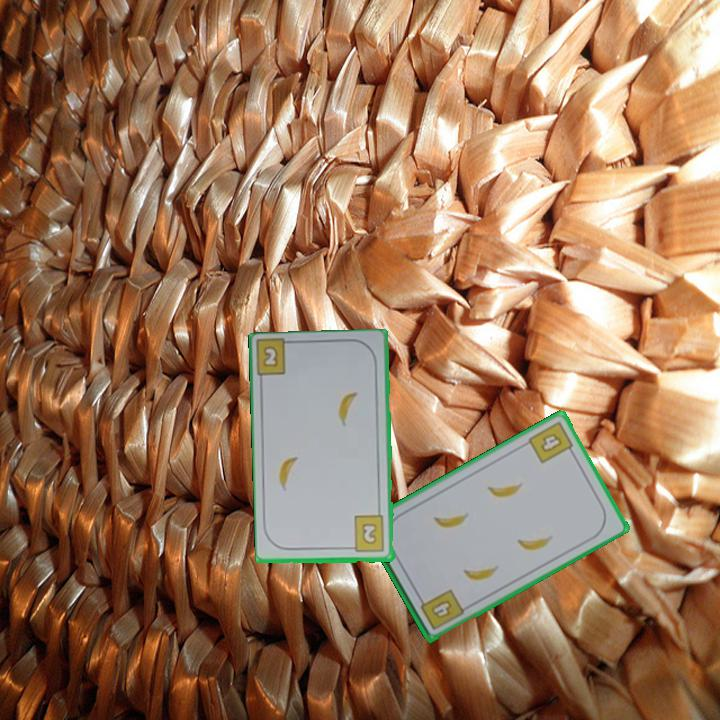2b: (345, 513, 387, 555), (260, 342, 281, 370)
4b: (524, 417, 578, 466), (415, 585, 467, 633)
